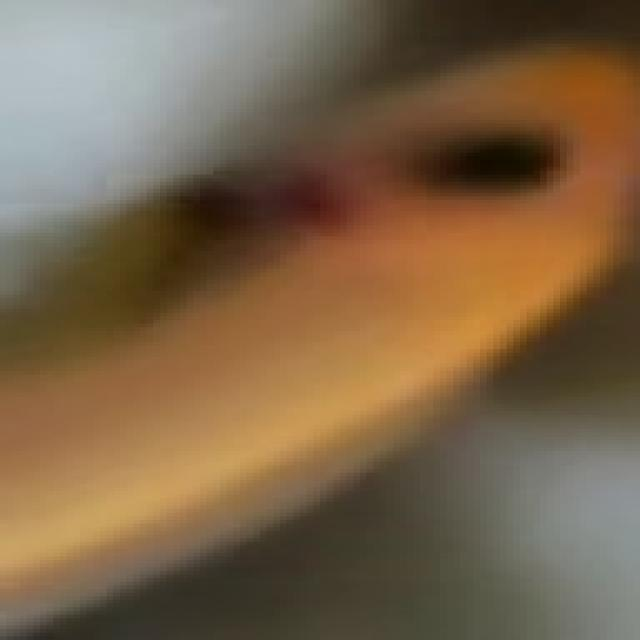fish: (6, 0, 640, 637)
